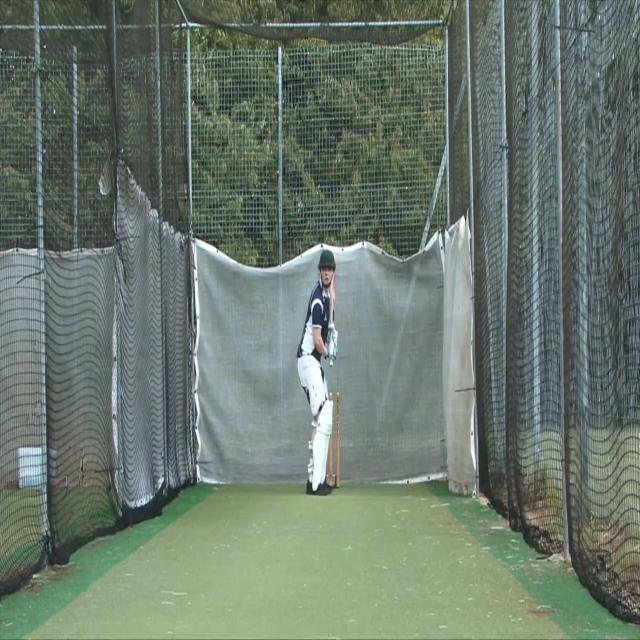batsman: (295, 247, 340, 498)
